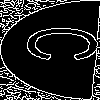C: (25, 25, 100, 64)
